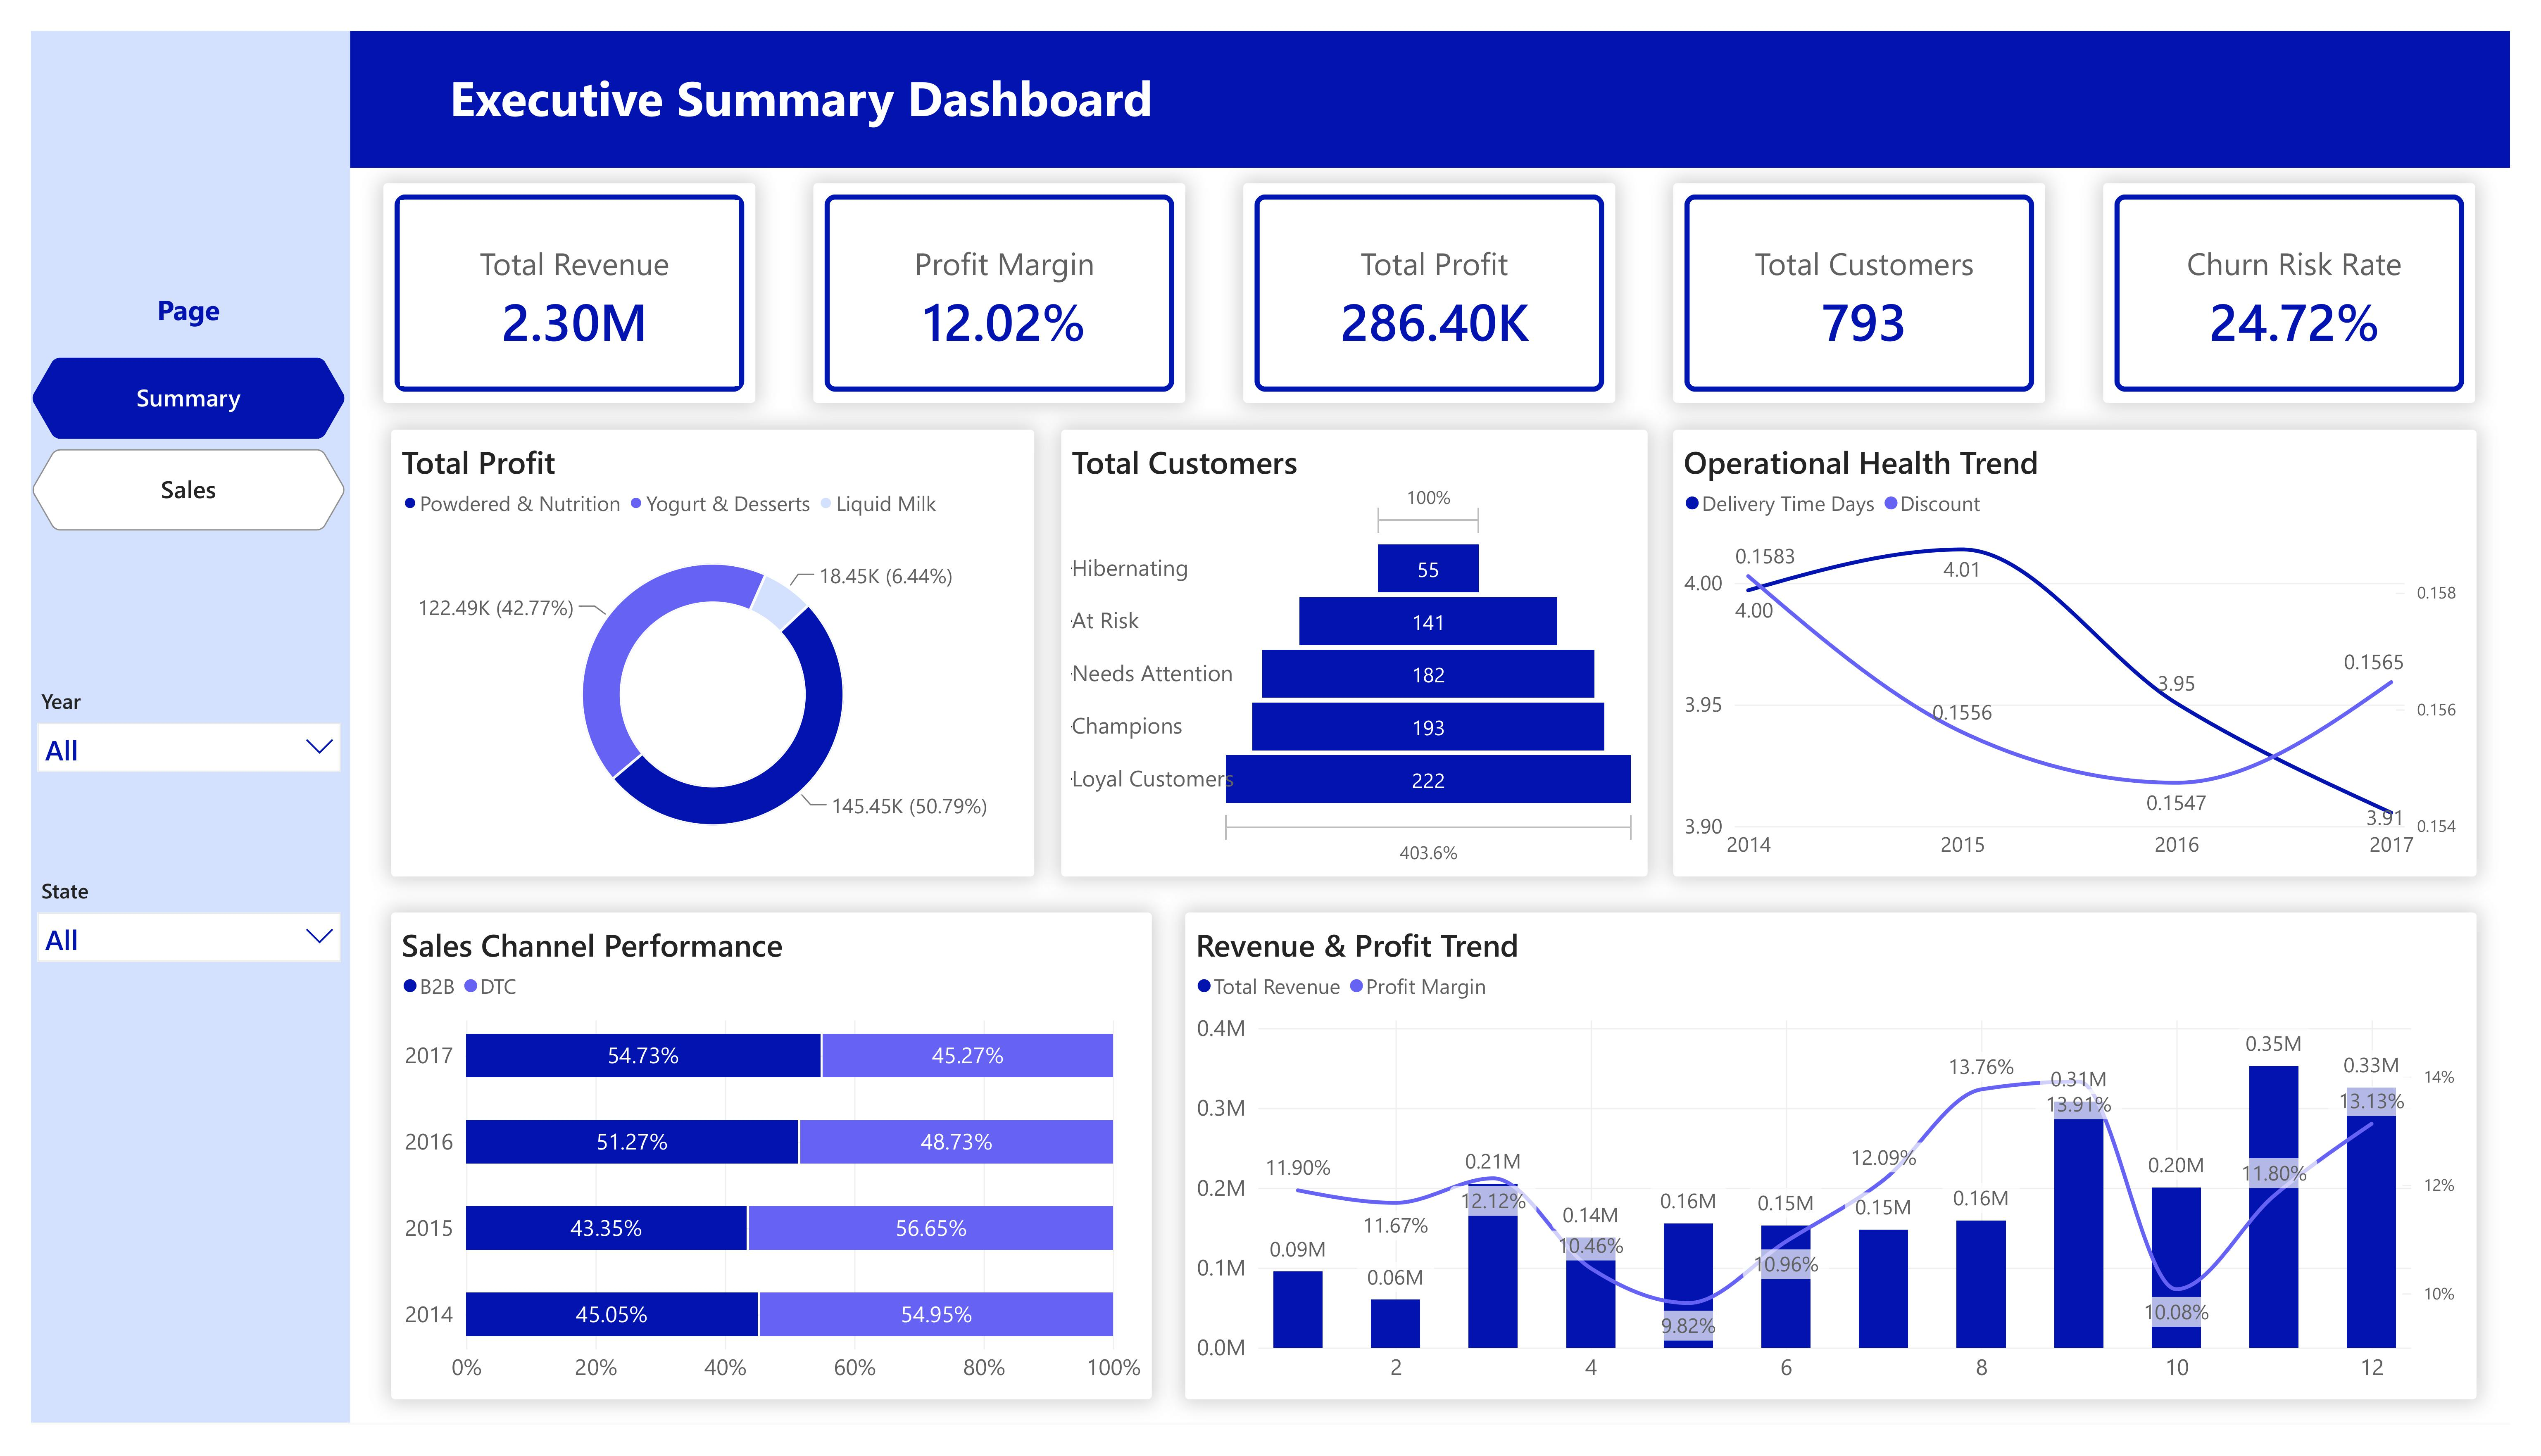

This screenshot's page, from the dashboard's own definition file:
{"tool":"powerbi","page":{"name":"Summary","canvas":[1920,1080],"ordinal":0},"visuals":[{"type":"cardVisual","fields":{"Data":["_Measures.Total Revenue"]},"box":[273.3,117.6,287.7,170.1],"z":0},{"type":"cardVisual","fields":{"Data":["Avg(Fact_Sales.Profit Margin)"]},"box":[606.2,117.6,287.7,170.1],"z":1000},{"type":"cardVisual","fields":{"Data":["_Measures.Total Customers"]},"box":[1272.2,117.6,287.7,170.1],"z":2000},{"type":"cardVisual","fields":{"Data":["_Measures.Churn Risk Rate"]},"box":[1605.2,117.6,287.7,170.1],"z":3000},{"type":"cardVisual","fields":{"Data":["_Measures.Total Profit"]},"box":[939.2,117.6,287.7,170.1],"z":4000},{"type":"lineStackedColumnComboChart","title":"Revenue & Profit Trend","fields":{"Category":["Dim_Date.Year","Dim_Date.Month"],"Y":["_Measures.Total Revenue"],"Y2":["Avg(Fact_Sales.Profit Margin)"]},"box":[894.1,683.3,999.5,376.5],"z":5000},{"type":"donutChart","title":"Total Profit ","fields":{"Category":["Dim_Product.Category"],"Y":["_Measures.Total Profit"]},"box":[278.6,308.7,498.8,346.4],"z":6000},{"type":"hundredPercentStackedBarChart","title":"Sales Channel Performance","fields":{"Category":["Dim_Date.Year","Dim_Date.Quarter"],"Series":["Dim_Customer.Sales Channel"],"Y":["_Measures.Total Revenue"]},"box":[278.6,683.3,589.2,376.5],"z":7000},{"type":"funnel","title":"Total Customers ","fields":{"Category":["RFM_Analysis.Customer_Status"],"Y":["_Measures.Total Customers"]},"box":[798.1,308.7,453.6,346.4],"z":8000},{"type":"lineChart","title":"Operational Health Trend","fields":{"Category":["Dim_Date.Date.Variation.Date Hierarchy.Year","Dim_Date.Date.Variation.Date Hierarchy.Quarter","Dim_Date.Date.Variation.Date Hierarchy.Month","Dim_Date.Date.Variation.Date Hierarchy.Day"],"Y":["Avg(Fact_Sales.Delivery Time Days)"],"Y2":["Avg(Fact_Sales.Discount)"]},"box":[1272.5,308.7,621.2,346.4],"z":9000},{"type":"slicer","fields":{"Values":["Dim_Date.Year"]},"box":[0,508.2,244.7,118.6],"z":10000},{"type":"slicer","fields":{"Values":["Dim_Customer.State"]},"box":[0,655.1,244.7,120.5],"z":11000},{"type":"textbox","box":[323.8,26.4,566.6,67.8],"z":12000},{"type":"textbox","box":[85.1,200.9,74.2,52.5],"z":13000},{"type":"pageNavigator","box":[0,253.4,244.3,133.9],"z":14000}]}

Visuals, with their boxes on the page's 1920x1080 design canvas (x1, y1, x2, y2). These are canvas units, not pixel positions in the 2541x1456 screenshot, which may show the page scaled, cropped or inside an application window:
cardVisual - _Measures.Total Revenue: x1=273 y1=118 x2=561 y2=288
cardVisual - Avg(Fact_Sales.Profit Margin): x1=606 y1=118 x2=894 y2=288
cardVisual - _Measures.Total Customers: x1=1272 y1=118 x2=1560 y2=288
cardVisual - _Measures.Churn Risk Rate: x1=1605 y1=118 x2=1893 y2=288
cardVisual - _Measures.Total Profit: x1=939 y1=118 x2=1227 y2=288
"Revenue & Profit Trend" lineStackedColumnComboChart: x1=894 y1=683 x2=1894 y2=1060
"Total Profit " donutChart: x1=279 y1=309 x2=777 y2=655
"Sales Channel Performance" hundredPercentStackedBarChart: x1=279 y1=683 x2=868 y2=1060
"Total Customers " funnel: x1=798 y1=309 x2=1252 y2=655
"Operational Health Trend" lineChart: x1=1272 y1=309 x2=1894 y2=655
slicer - Dim_Date.Year: x1=0 y1=508 x2=245 y2=627
slicer - Dim_Customer.State: x1=0 y1=655 x2=245 y2=776
textbox: x1=324 y1=26 x2=890 y2=94
textbox: x1=85 y1=201 x2=159 y2=253
pageNavigator: x1=0 y1=253 x2=244 y2=387
